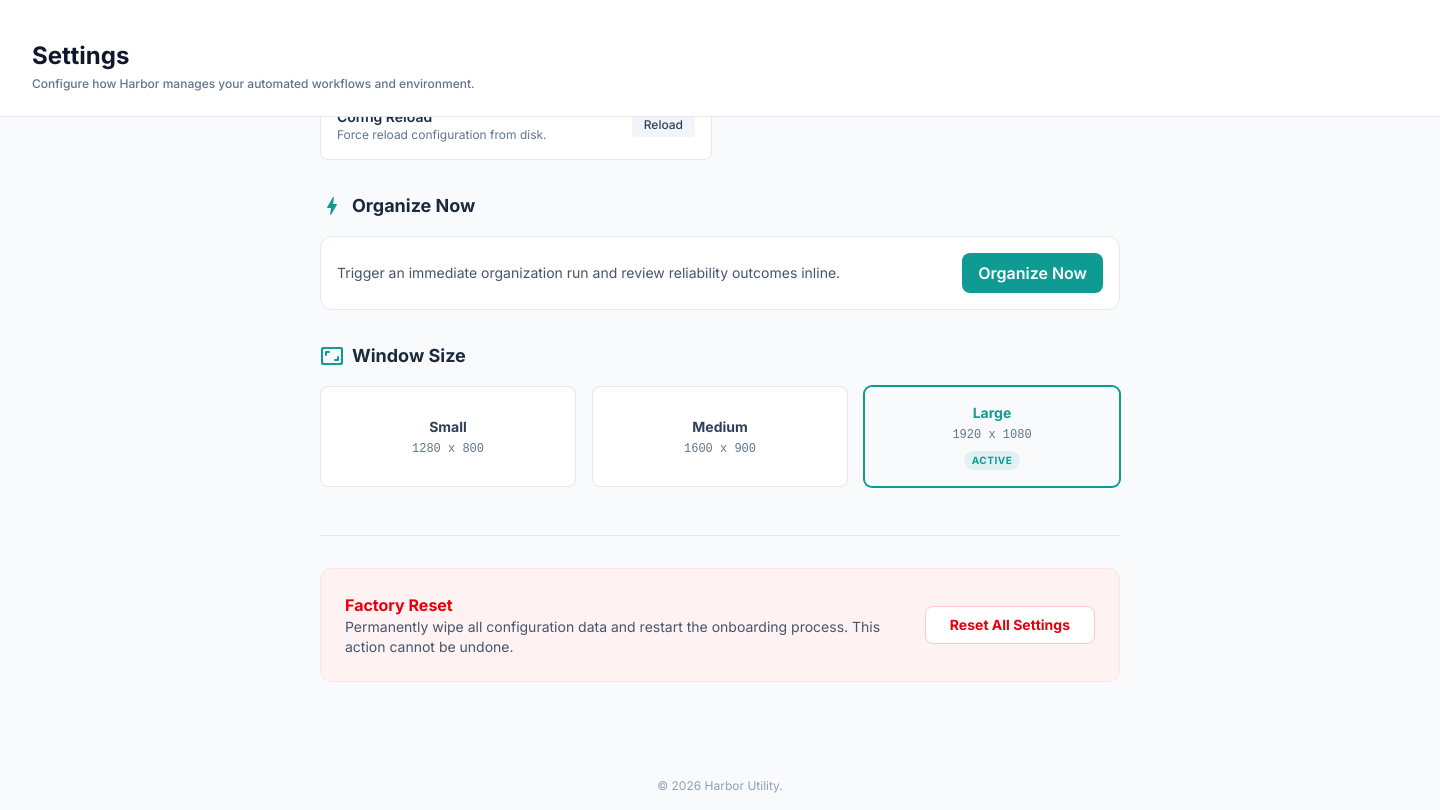
SettingsPage › cancels reset modal when No, Keep Settings is clicked
(page scrolled)
Click the button "Reset All Settings" at (1010, 625), box [925, 606, 1095, 644]
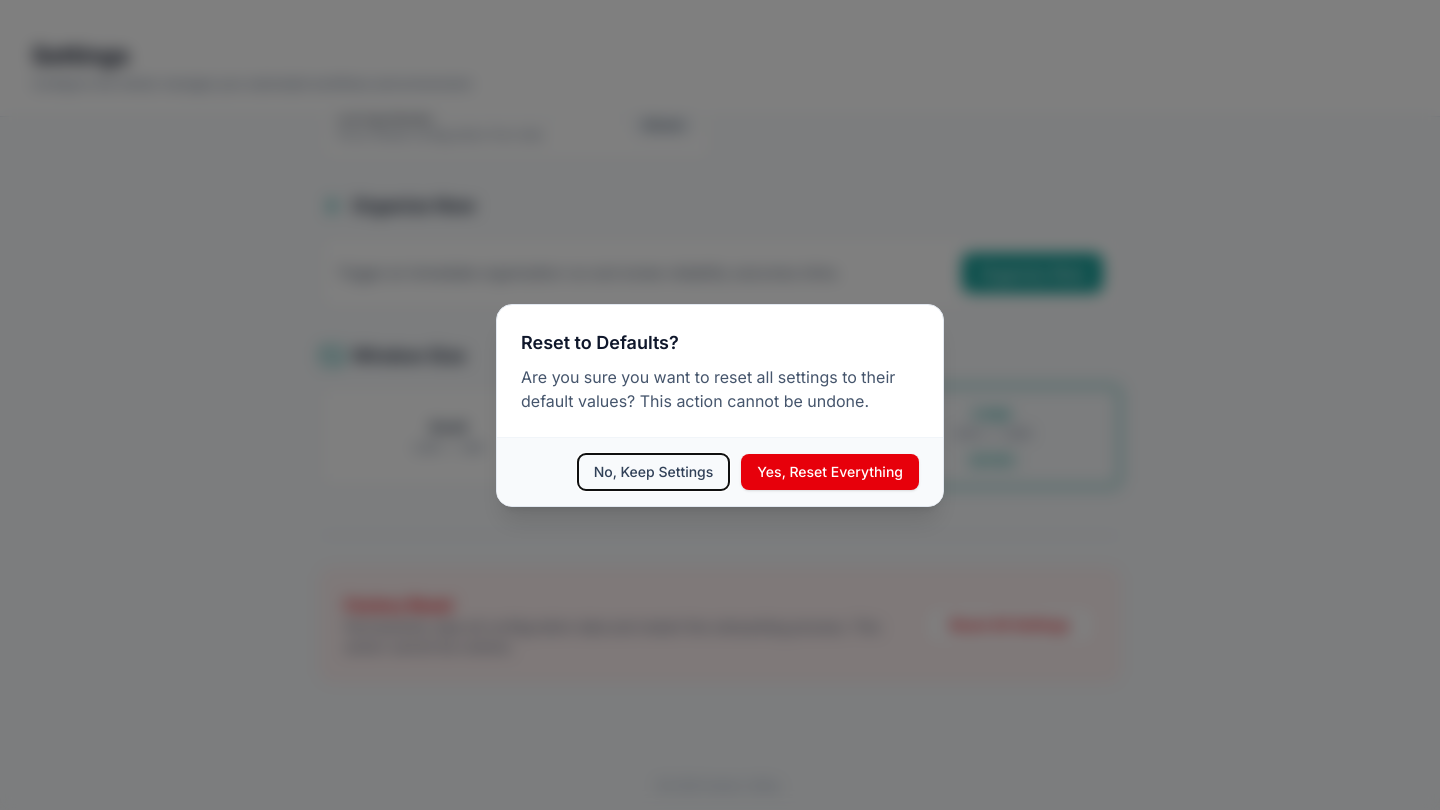
Click the button "No, Keep Settings" at (653, 472), box [578, 454, 729, 490]
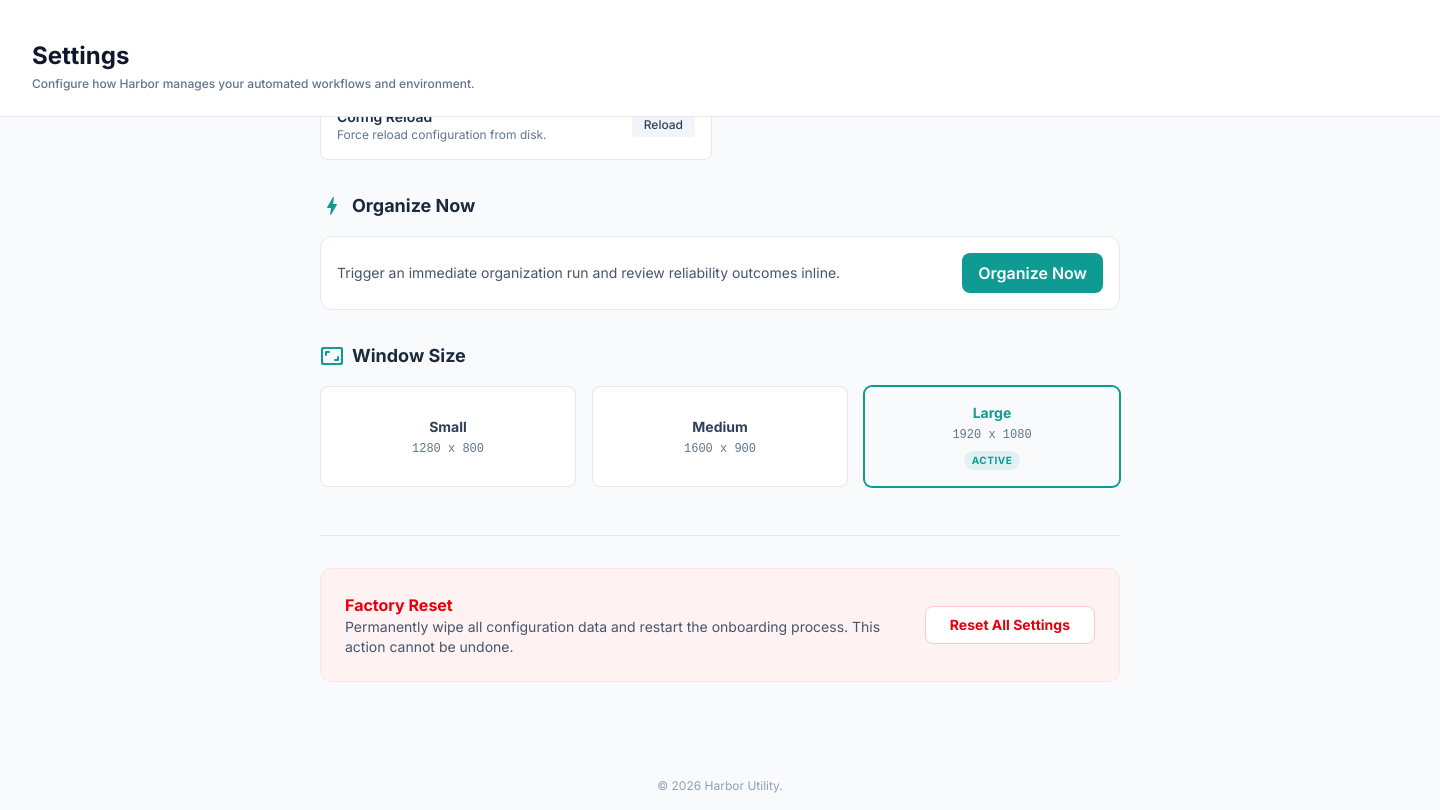
Expected: the heading "Reset to Defaults?" is gone
